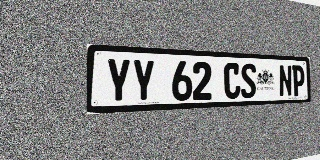2: (193, 61, 211, 100)
6: (172, 61, 192, 101)
C: (224, 63, 240, 99)
N: (279, 65, 292, 97)
P: (292, 65, 305, 96)
S: (241, 63, 256, 98)
Y: (106, 58, 131, 104), (132, 59, 155, 103)
